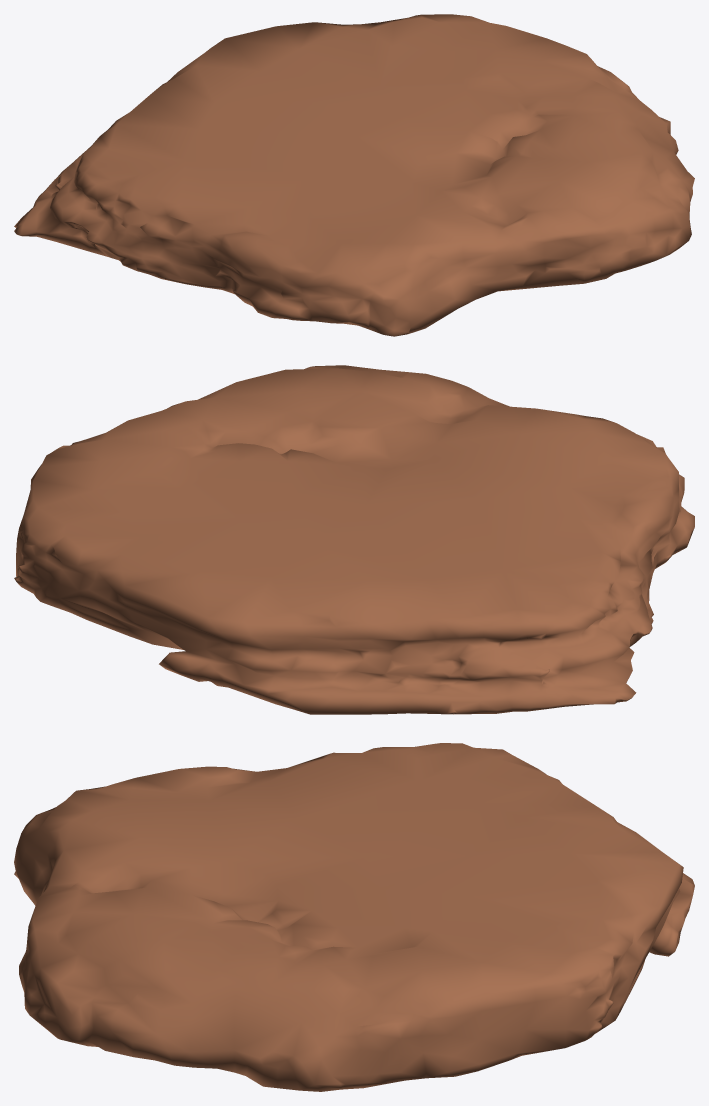
Rendered from MSH_Rocks_Boulder_28.FBX.
3 views of the same model, one above another, from view 1: azimuth 30°, elevation 25°; view 2: azimuth 150°, elevation 25°; view 3: azimuth 270°, elevation 25° (orthographic). The views are drawn at different scales.
Parts seen in each view (by area): view 1: MESH_LOD0; view 2: MESH_LOD0; view 3: MESH_LOD0.
Part boxes in pixels (box(x1,y1,x2,y2)): MESH_LOD0: box(14, 14, 694, 336); MESH_LOD0: box(14, 365, 694, 714); MESH_LOD0: box(14, 743, 694, 1091).
Size of what is drawn, in the model's own units: 219 by 32.85 by 194.
